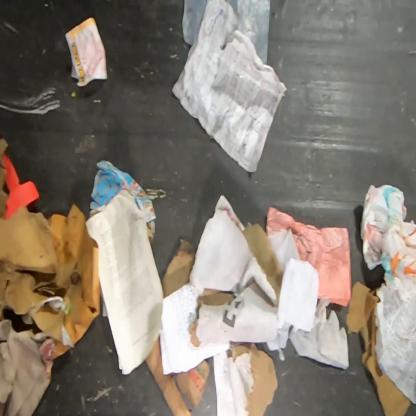cardboard: (0, 137, 102, 415), (188, 223, 282, 350), (345, 280, 413, 415), (144, 334, 212, 415), (225, 343, 278, 415), (160, 238, 197, 298)
soft_plastic: (182, 0, 272, 65)
